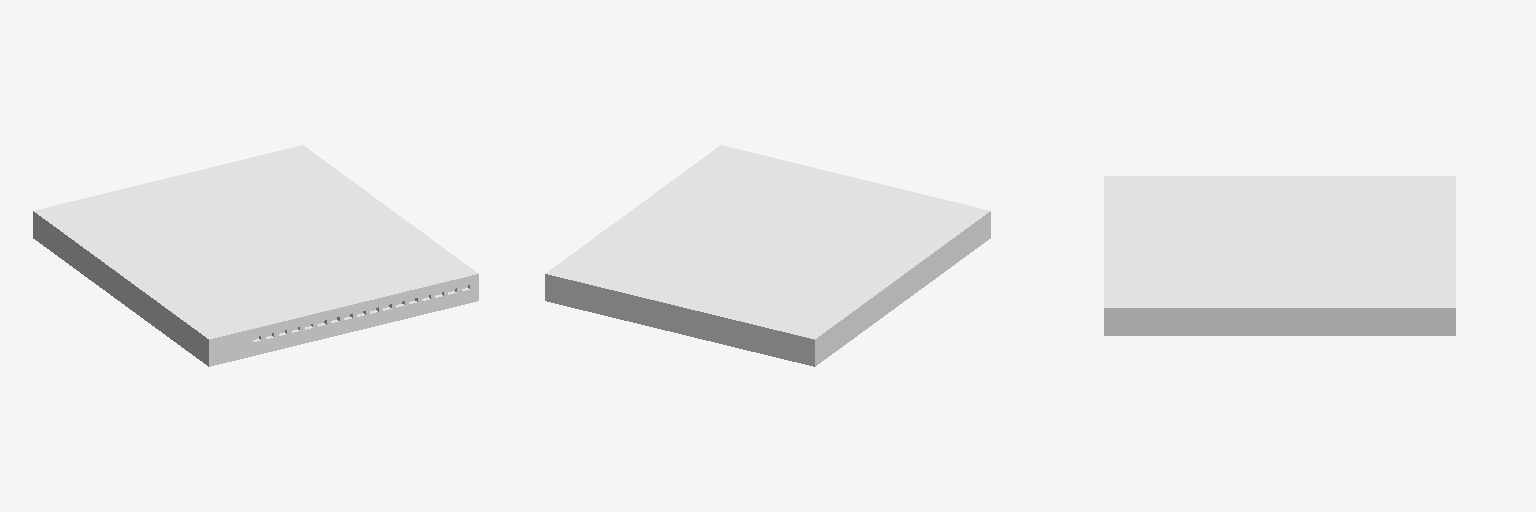
File: lan-hub.obj
3 renders of one model, left to right at view 1: azimuth 30°, elevation 25°; view 2: azimuth 150°, elevation 25°; view 3: azimuth 270°, elevation 25°, orthographic.
Parts seen in each view (by area): view 1: object 1; view 2: object 1; view 3: object 1.
Part boxes in pixels (x1,y1,x2,y2): object 1: (33, 145, 478, 366); object 1: (545, 145, 990, 366); object 1: (1104, 176, 1455, 335).
Bounding box in the file's own units: 6.2 × 0.6 × 7.